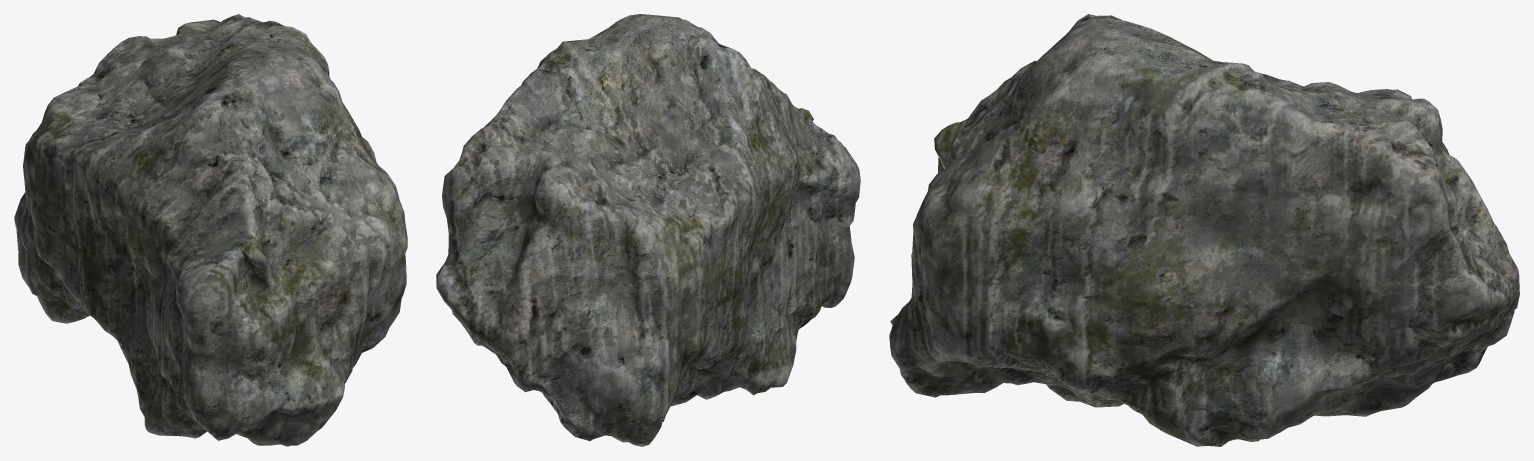
Rendered from SM_Stone_B.fbx.
3 renders of one model, left to right at view 1: azimuth 30°, elevation 25°; view 2: azimuth 150°, elevation 25°; view 3: azimuth 270°, elevation 25°, orthographic. The views are drawn at different scales.
Parts seen in each view (by area): view 1: SM_Stone_B_LOD0; view 2: SM_Stone_B_LOD0; view 3: SM_Stone_B_LOD0.
Part boxes in pixels (box(x1,y1,x2,y2)): SM_Stone_B_LOD0: box(14, 14, 407, 446); SM_Stone_B_LOD0: box(436, 14, 860, 446); SM_Stone_B_LOD0: box(889, 14, 1519, 446).
Size of the model in its own units: 112 by 200 by 151.
